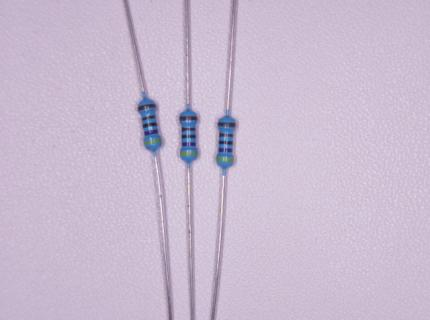Black band: (143, 122, 158, 128), (182, 134, 196, 138), (219, 141, 233, 145)
Brown band: (137, 104, 156, 111), (179, 116, 198, 121), (217, 122, 236, 127), (142, 115, 156, 121), (220, 133, 234, 137), (182, 127, 196, 131)
Violet band: (144, 129, 158, 136), (182, 142, 196, 146), (219, 148, 232, 152)
Yellow band: (144, 139, 162, 145), (216, 157, 234, 162), (180, 152, 198, 156)
